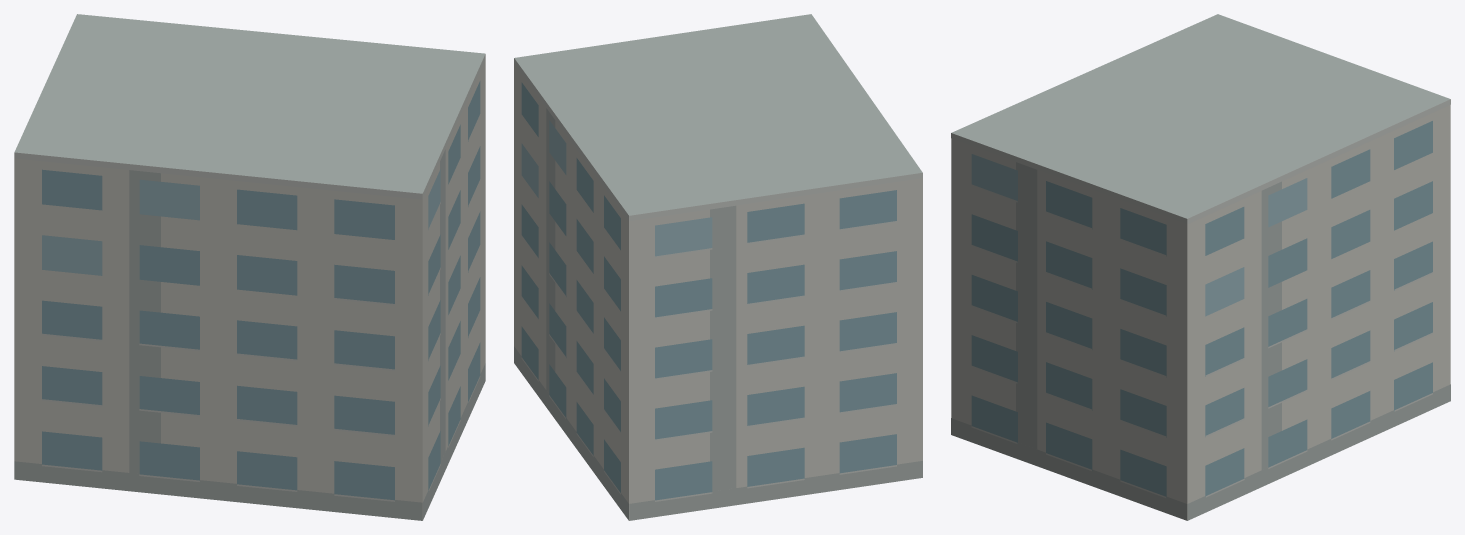
Rendered from survey-upis-32948733.glb.
3 views of the same model, side by side, from view 1: azimuth 30°, elevation 25°; view 2: azimuth 150°, elevation 25°; view 3: azimuth 270°, elevation 25° (orthographic). The views are drawn at different scales.
Parts seen in each view (by area): view 1: survey-upis-32948733.tmp; view 2: survey-upis-32948733.tmp; view 3: survey-upis-32948733.tmp.
Boxes of the visible parts, left/top/right/bottom form: survey-upis-32948733.tmp: left=14, top=14, right=485, bottom=520; survey-upis-32948733.tmp: left=514, top=14, right=922, bottom=520; survey-upis-32948733.tmp: left=951, top=14, right=1450, bottom=520.
Bounding box in the file's own units: 19.36 × 13.3 × 19.95.
